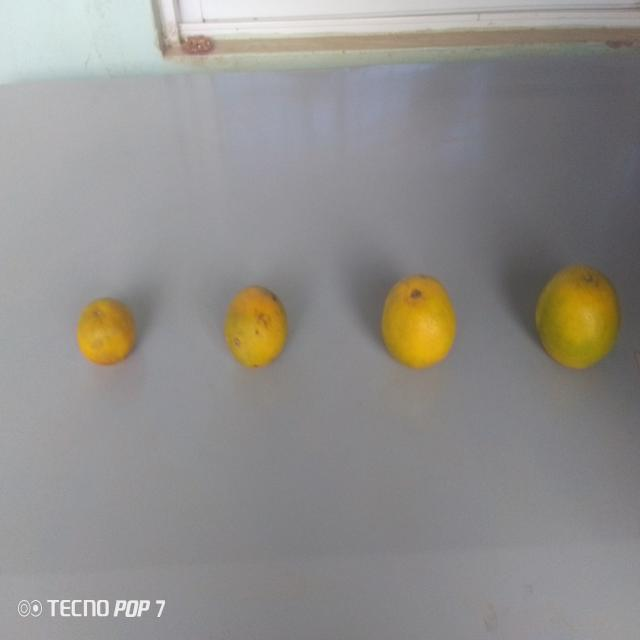Ripe orange: (534, 260, 622, 377), (377, 271, 461, 370), (222, 274, 294, 378), (69, 284, 144, 372)
